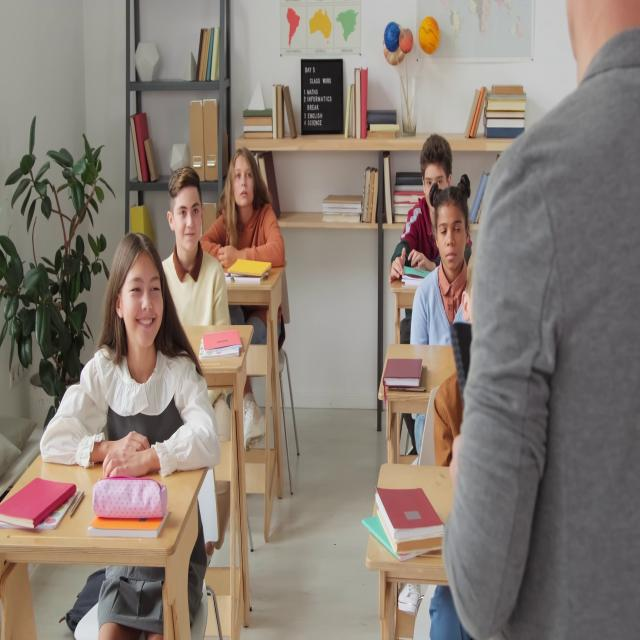listening: (39, 235, 222, 638), (202, 152, 286, 436), (403, 180, 472, 459), (161, 165, 232, 348), (389, 134, 473, 285)
